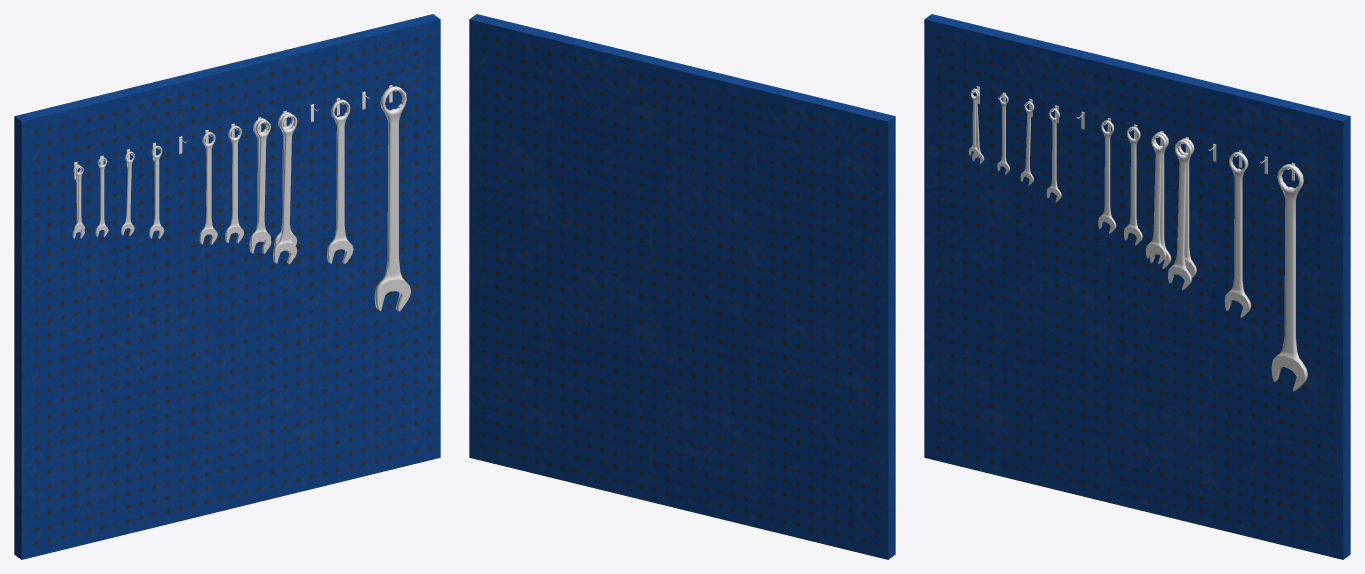
The model's file is wrenches.glb.
3 renders of one model, left to right at view 1: azimuth 30°, elevation 25°; view 2: azimuth 150°, elevation 25°; view 3: azimuth 330°, elevation 25°, orthographic.
Visible parts, largest first — view 1: ToolWallMesh, Wrench_Mesh.012, MetalHanger.012; view 2: ToolWallMesh; view 3: ToolWallMesh, Wrench_Mesh.012, MetalHanger.012.
Part boxes in pixels (x1=…): ToolWallMesh: x1=14, y1=14, x2=440, y2=559; Wrench_Mesh.012: x1=72, y1=86, x2=410, y2=311; MetalHanger.012: x1=100, y1=85, x2=397, y2=172; ToolWallMesh: x1=469, y1=14, x2=895, y2=559; ToolWallMesh: x1=924, y1=14, x2=1350, y2=559; Wrench_Mesh.012: x1=968, y1=88, x2=1307, y2=391; MetalHanger.012: x1=998, y1=92, x2=1294, y2=180.
Size of the model in its own units: 6 by 6 by 0.3404.
5 materials, 2 textured.
